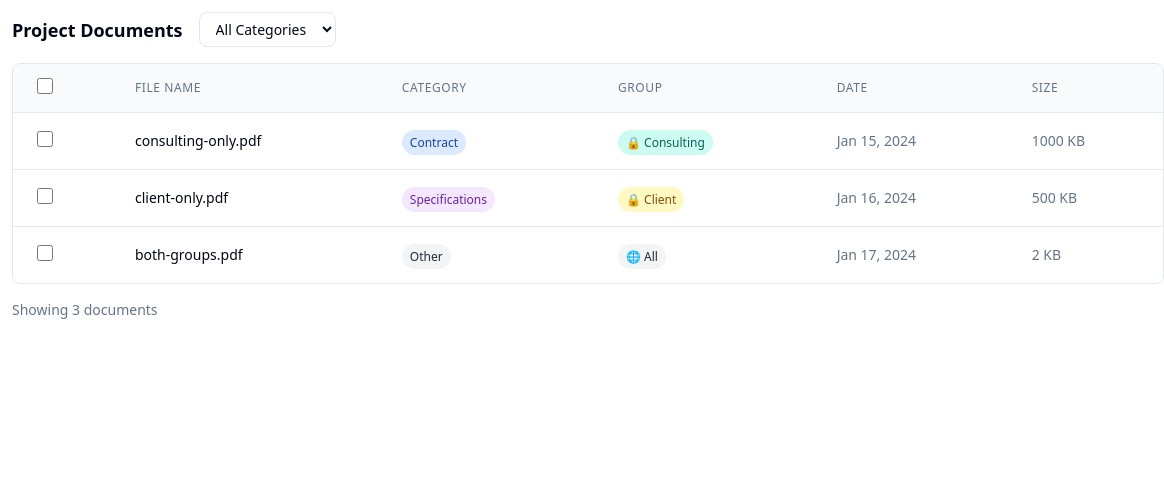
Test: DocumentList › Document Visibility Filtering › should show bulk visibility controls for users with permission
// Select a document first to show bulk actions
What coordinates should you click on to do the following:
click the checkbox next to "consulting-only.pdf"
I would click on:
 (45, 139)
Its box is [37,131,53,147].
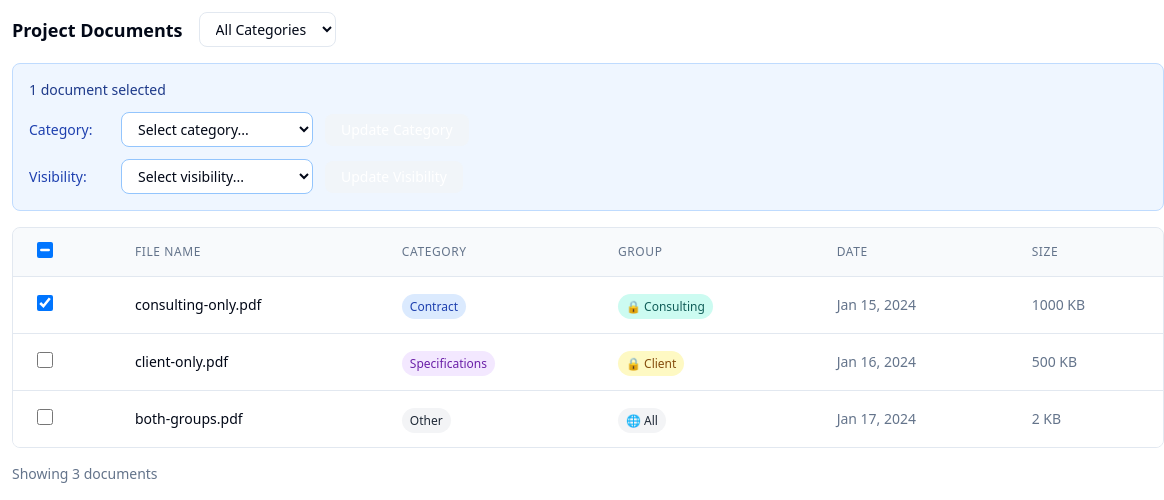
Check: the text "1 document selected" is shown, box [29,80,166,99]
